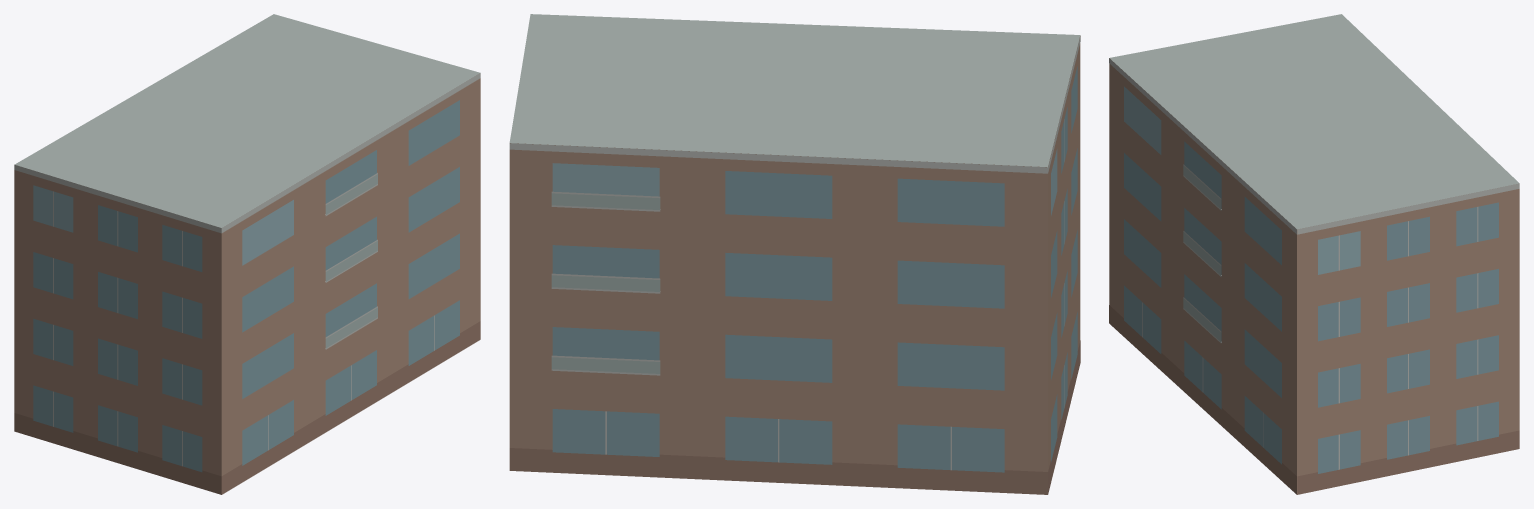
Rendered from residential-14e17215-33dc-4051-870e-54e876d0bc45.glb.
3 views of the same model, side by side, from view 1: azimuth 30°, elevation 25°; view 2: azimuth 150°, elevation 25°; view 3: azimuth 270°, elevation 25° (orthographic). The views are drawn at different scales.
Parts seen in each view (by area): view 1: residential-14e17215-33dc-4051-870e-54e876d0bc45.tmp; view 2: residential-14e17215-33dc-4051-870e-54e876d0bc45.tmp; view 3: residential-14e17215-33dc-4051-870e-54e876d0bc45.tmp.
Part boxes in pixels (x1=…): residential-14e17215-33dc-4051-870e-54e876d0bc45.tmp: x1=14, y1=14, x2=480, y2=494; residential-14e17215-33dc-4051-870e-54e876d0bc45.tmp: x1=509, y1=14, x2=1080, y2=494; residential-14e17215-33dc-4051-870e-54e876d0bc45.tmp: x1=1109, y1=14, x2=1519, y2=494.
Bounding box in the file's own units: 21.24 × 12.2 × 17.11.
